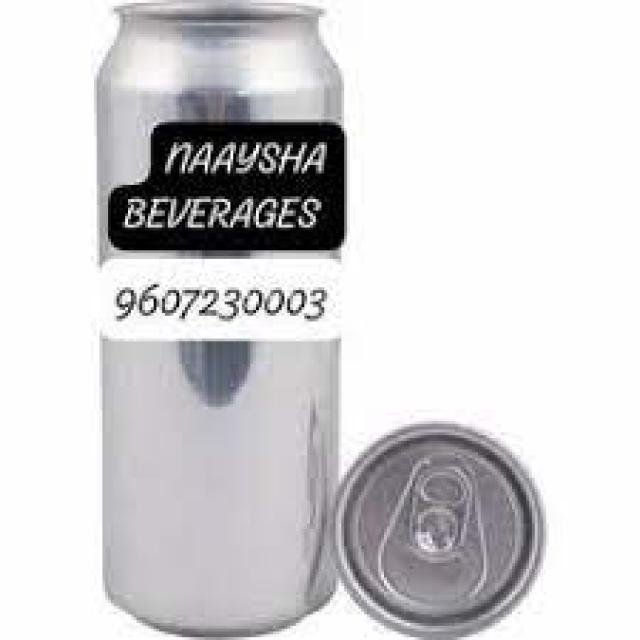Cans: (89, 3, 358, 634)
